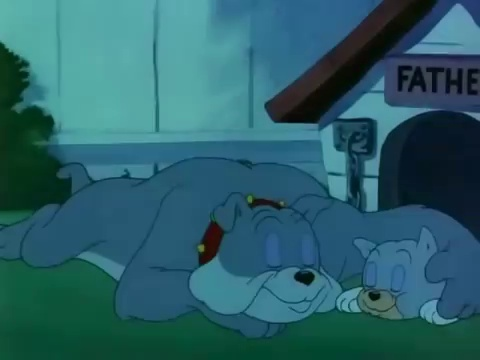spike: (185, 189, 345, 331)
